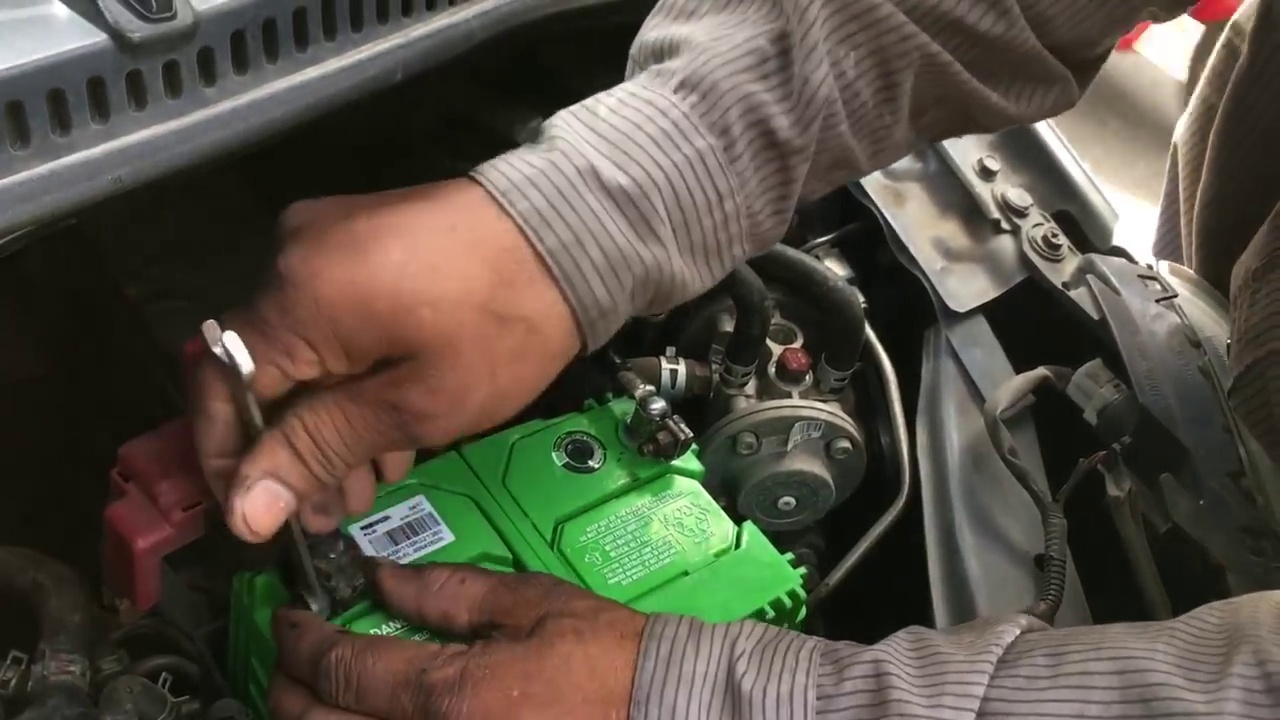battery: (227, 379, 818, 643)
neg_connected: (589, 345, 722, 484)
pos_touched: (112, 314, 444, 697)
